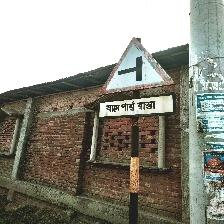Side-road-left: (94, 37, 176, 123)
